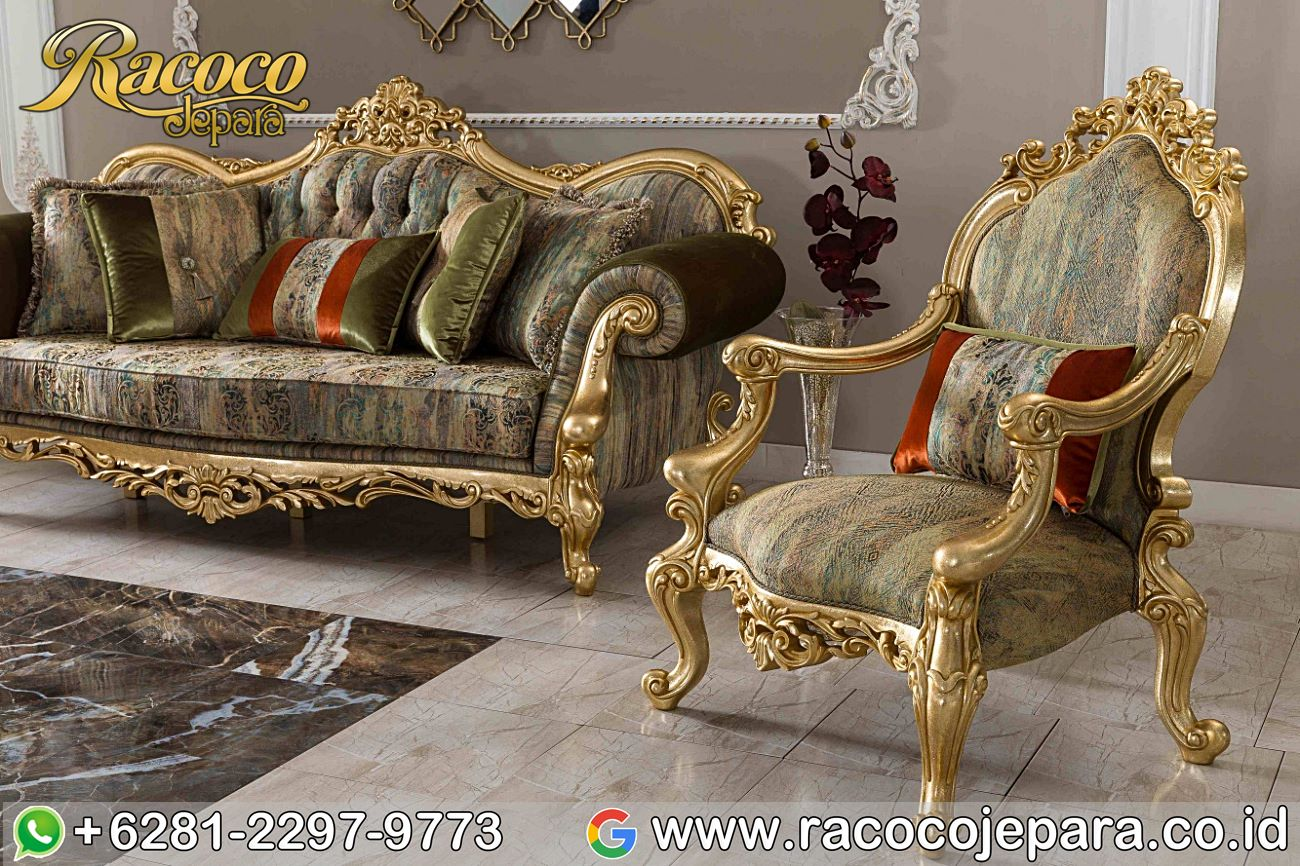Carving Chair: (720, 121, 1265, 787), (25, 129, 706, 562)
